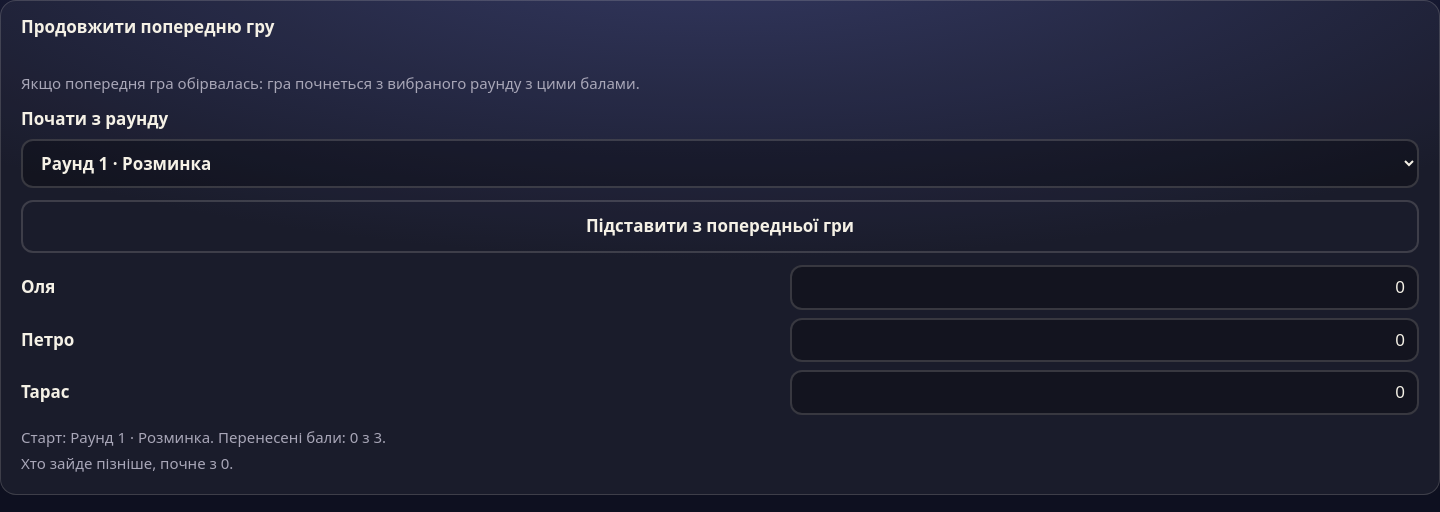
ResumePanel › takes «42 434» and «−500» as typed
Replace the text in the field labelled "Оля" with "42 434": (1104, 287) [790,265,1419,310]
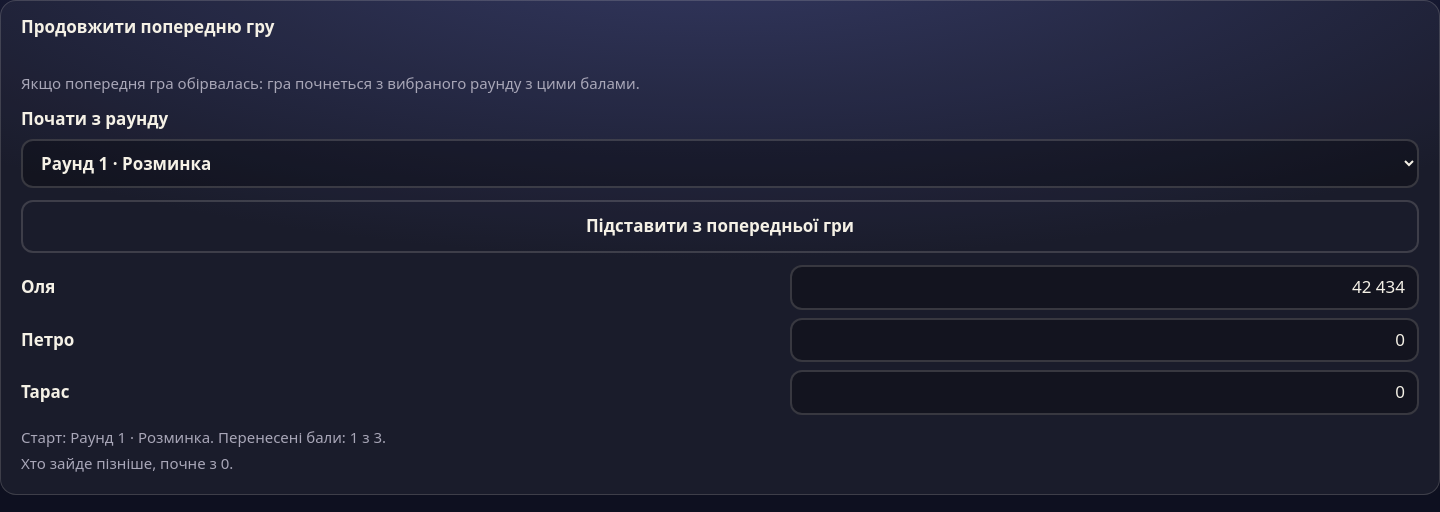
Replace the text in the field labelled "Петро" with "−500": (1104, 340) [790,318,1419,362]
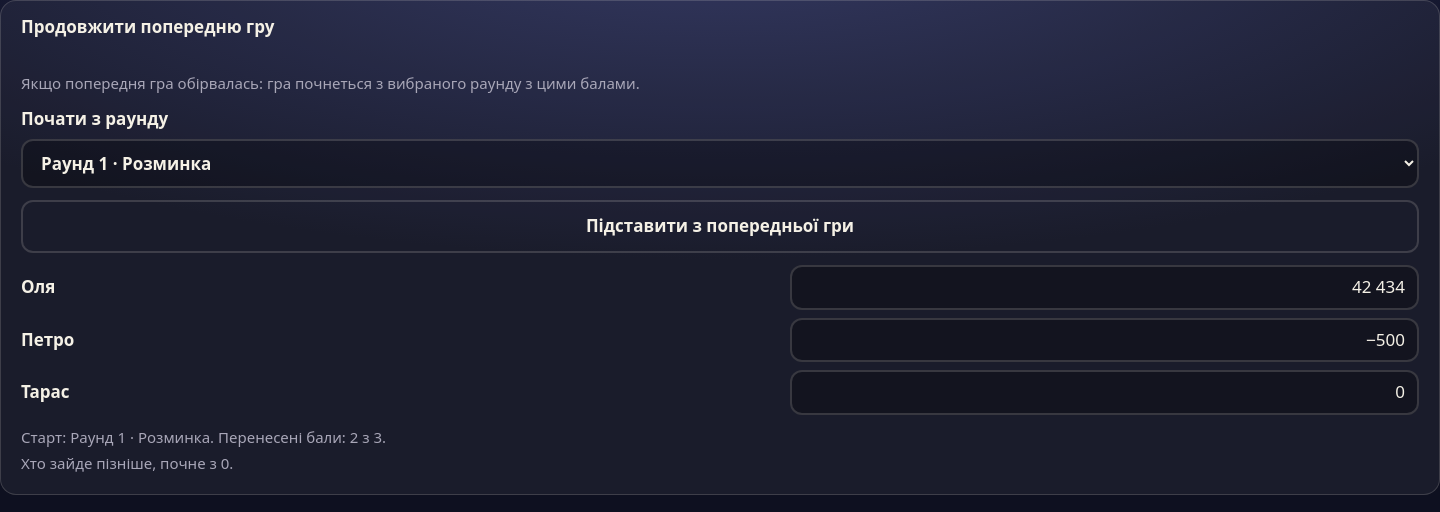
Expected: the text "Старт: Раунд 1 · Розминка. Перенесені бали: 2 з 3." is shown, [21,427,386,447]
